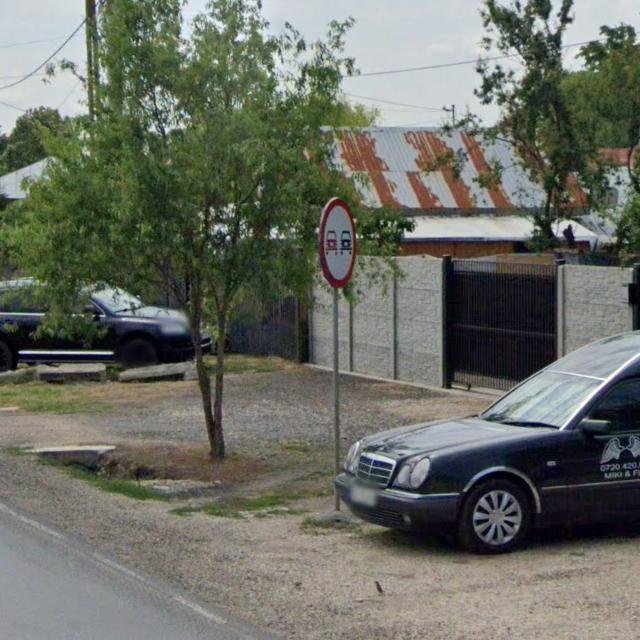forb_overtake: (318, 198, 357, 287)
